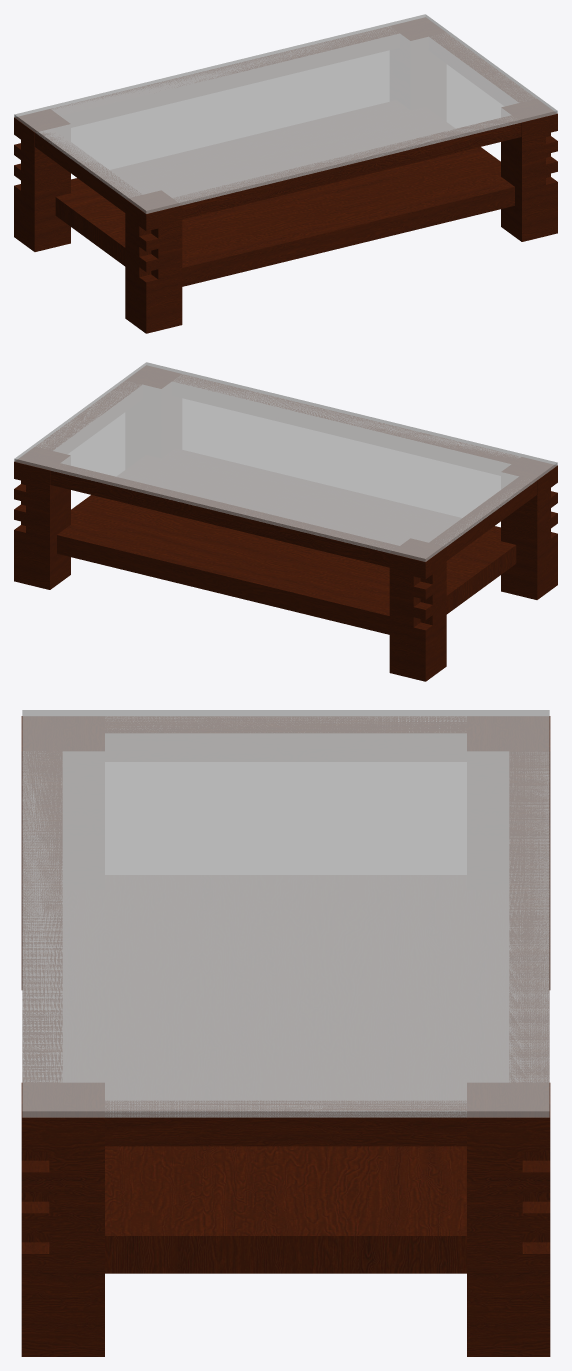
File: MejaTamu.fbx
3 renders of one model, top to bottom at view 1: azimuth 30°, elevation 25°; view 2: azimuth 150°, elevation 25°; view 3: azimuth 270°, elevation 25°, orthographic. The views are drawn at different scales.
Parts seen in each view (by area): view 1: MejaTamu; view 2: MejaTamu; view 3: MejaTamu.
Part boxes in pixels (x1,y1,x2,y2): MejaTamu: [14, 14, 557, 333]; MejaTamu: [14, 362, 557, 681]; MejaTamu: [21, 710, 550, 1356].
Bounding box in the file's own units: 142 × 40.55 × 79.25.
2 materials, 1 textured.
